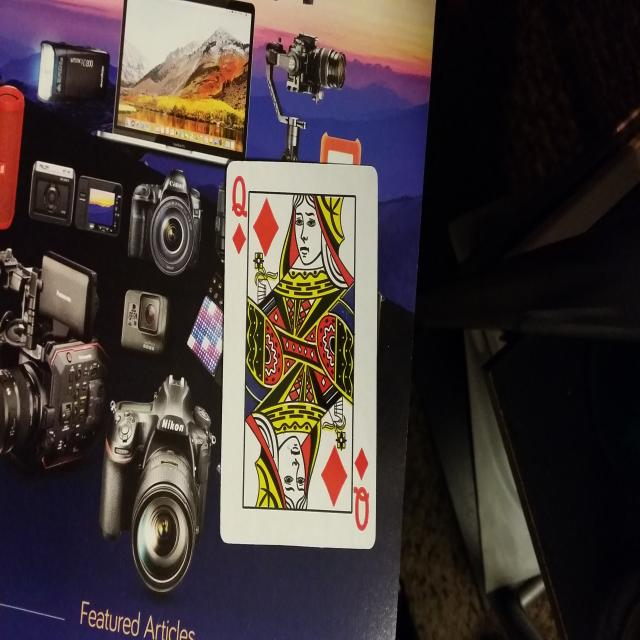Qd: (224, 168, 255, 262), (350, 442, 371, 537)
